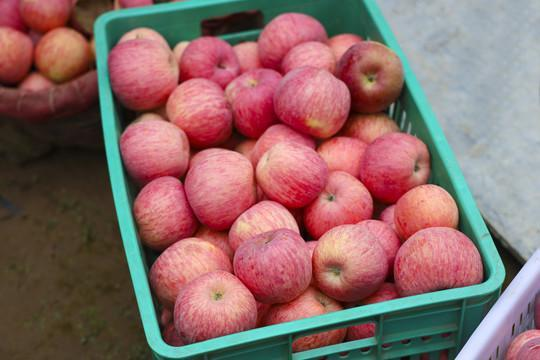apple: (230, 227, 314, 304), (311, 224, 390, 300), (272, 65, 351, 140), (183, 147, 253, 231), (174, 271, 260, 339), (393, 226, 483, 290), (148, 237, 233, 300), (359, 131, 430, 202), (108, 37, 179, 107), (337, 39, 403, 114), (265, 289, 346, 349), (252, 143, 327, 207), (302, 171, 373, 237), (130, 177, 197, 242), (168, 77, 231, 146), (225, 69, 285, 139), (254, 11, 331, 65), (120, 120, 190, 179), (229, 199, 302, 249), (393, 183, 460, 237), (33, 27, 91, 82), (176, 36, 242, 82), (1, 25, 33, 87), (17, 1, 74, 32)
